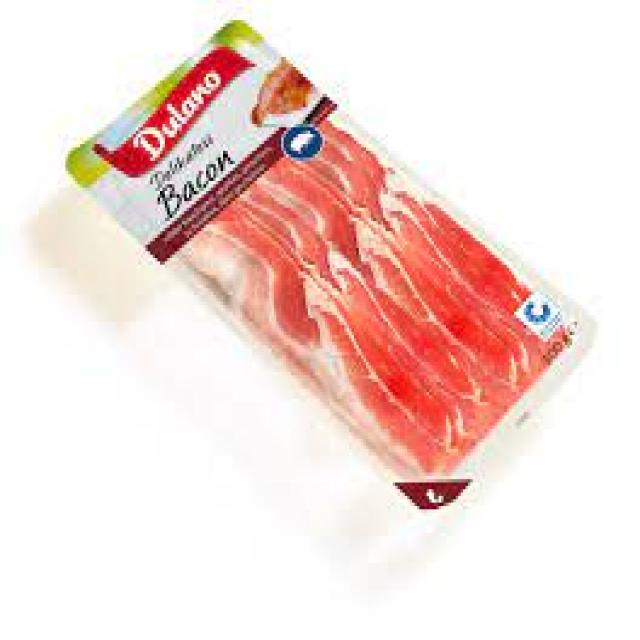bacon: (268, 119, 574, 473)
